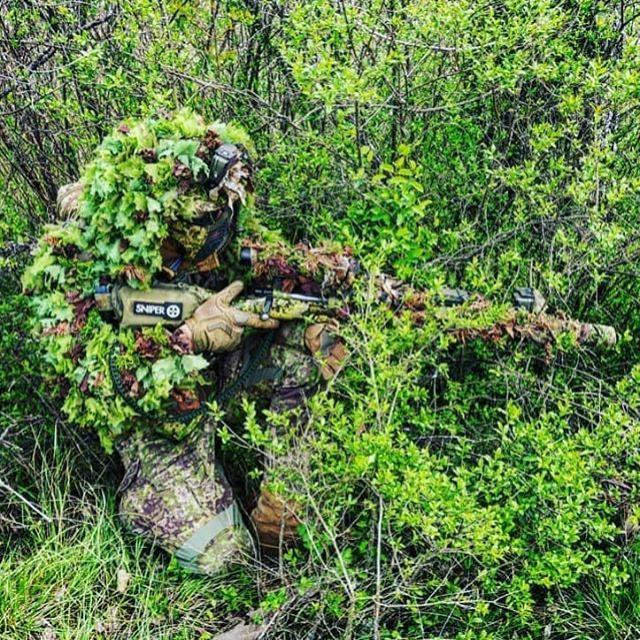Camouflage: (13, 109, 609, 581)
